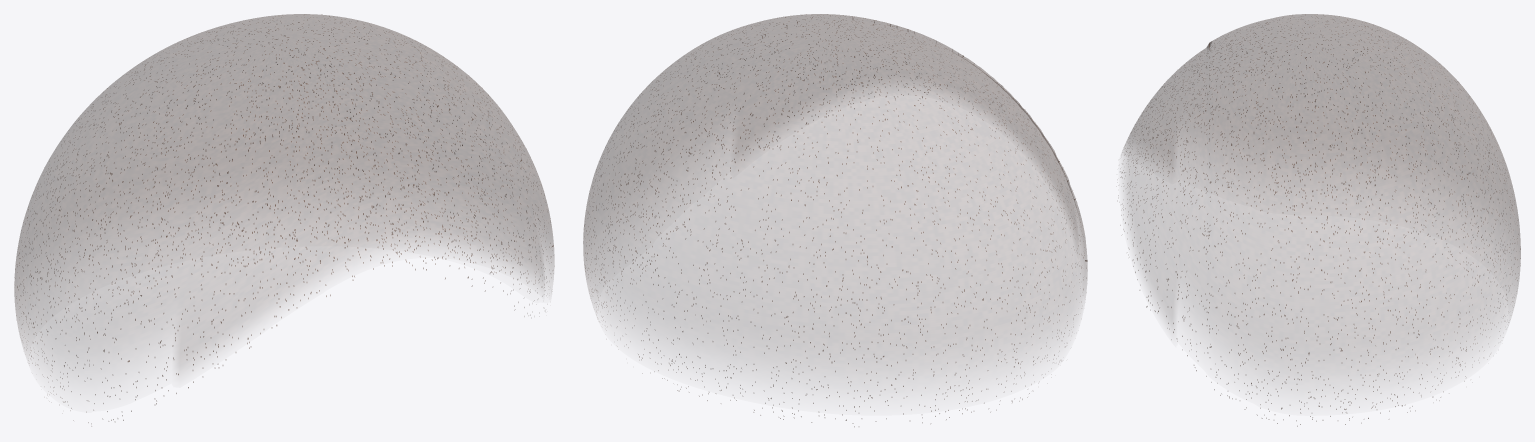
Rendered from Masculine-buzz-tank-pashmina250-hair.glb.
3 renders of one model, left to right at view 1: azimuth 30°, elevation 25°; view 2: azimuth 150°, elevation 25°; view 3: azimuth 270°, elevation 25°, orthographic. The views are drawn at different scales.
Parts seen in each view (by area): view 1: 226 hair / Hair / neutral coverage235.002, 226 hair / Hair / cut grain235.002; view 2: 226 hair / Hair / neutral coverage235.002, 226 hair / Hair / cut grain235.002; view 3: 226 hair / Hair / neutral coverage235.002, 226 hair / Hair / cut grain235.002.
Boxes of the visible parts, x1,y1,x2,y2 form: 226 hair / Hair / neutral coverage235.002: [14, 14, 554, 367]; 226 hair / Hair / cut grain235.002: [14, 14, 553, 426]; 226 hair / Hair / neutral coverage235.002: [583, 14, 1087, 370]; 226 hair / Hair / cut grain235.002: [585, 14, 1087, 426]; 226 hair / Hair / neutral coverage235.002: [1123, 14, 1520, 372]; 226 hair / Hair / cut grain235.002: [1118, 17, 1520, 426].
Size of the model in its own units: 0.9759 by 0.6309 by 0.7915.
2 materials, 1 textured.
